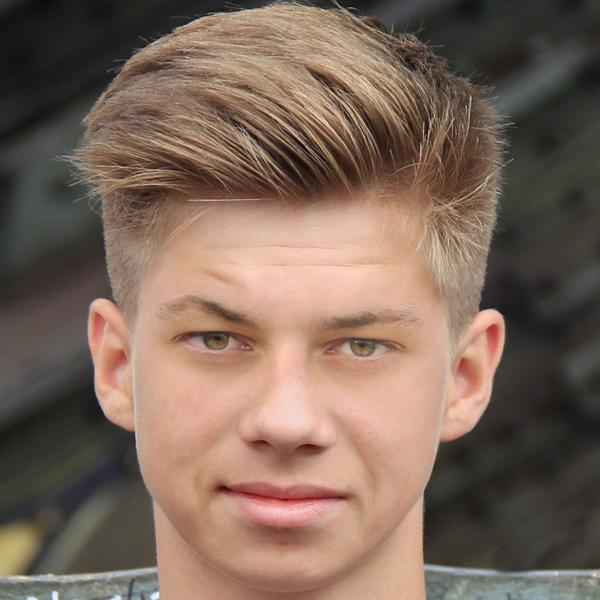Eyes: (308, 320, 414, 382), (166, 314, 264, 369)
